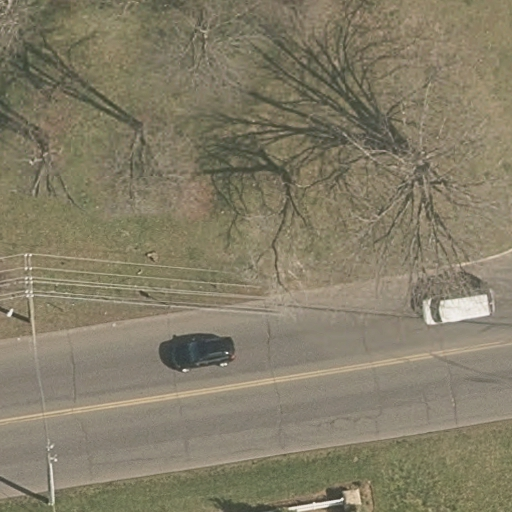DT: (15, 249, 48, 328)
